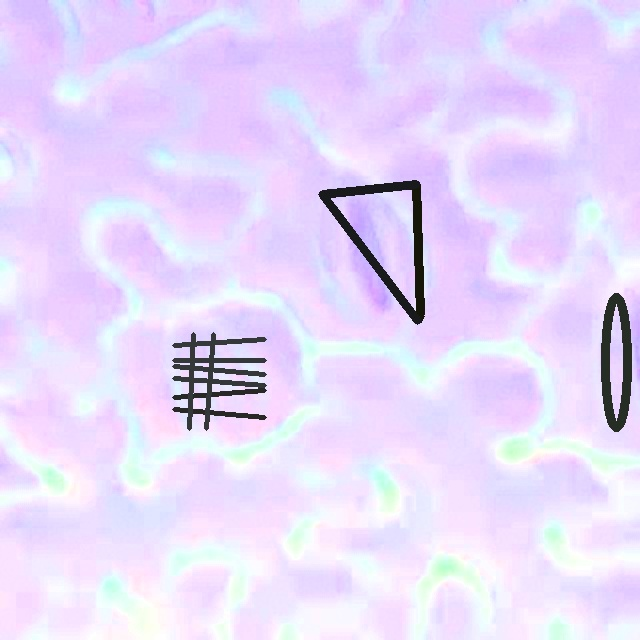close: (173, 332, 266, 430)
open: (319, 181, 423, 324), (599, 292, 632, 432)
